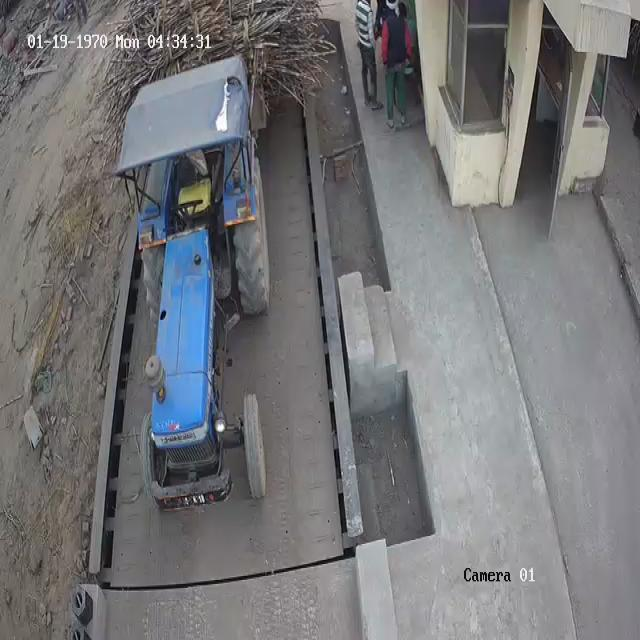Tratores - v5 YOLO V8L 2024-11-13: (126, 88, 272, 520)
